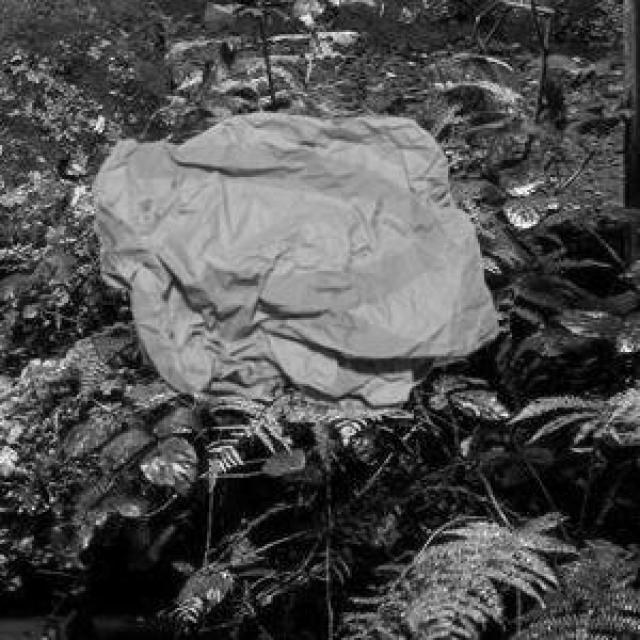paper: (88, 109, 493, 414)
